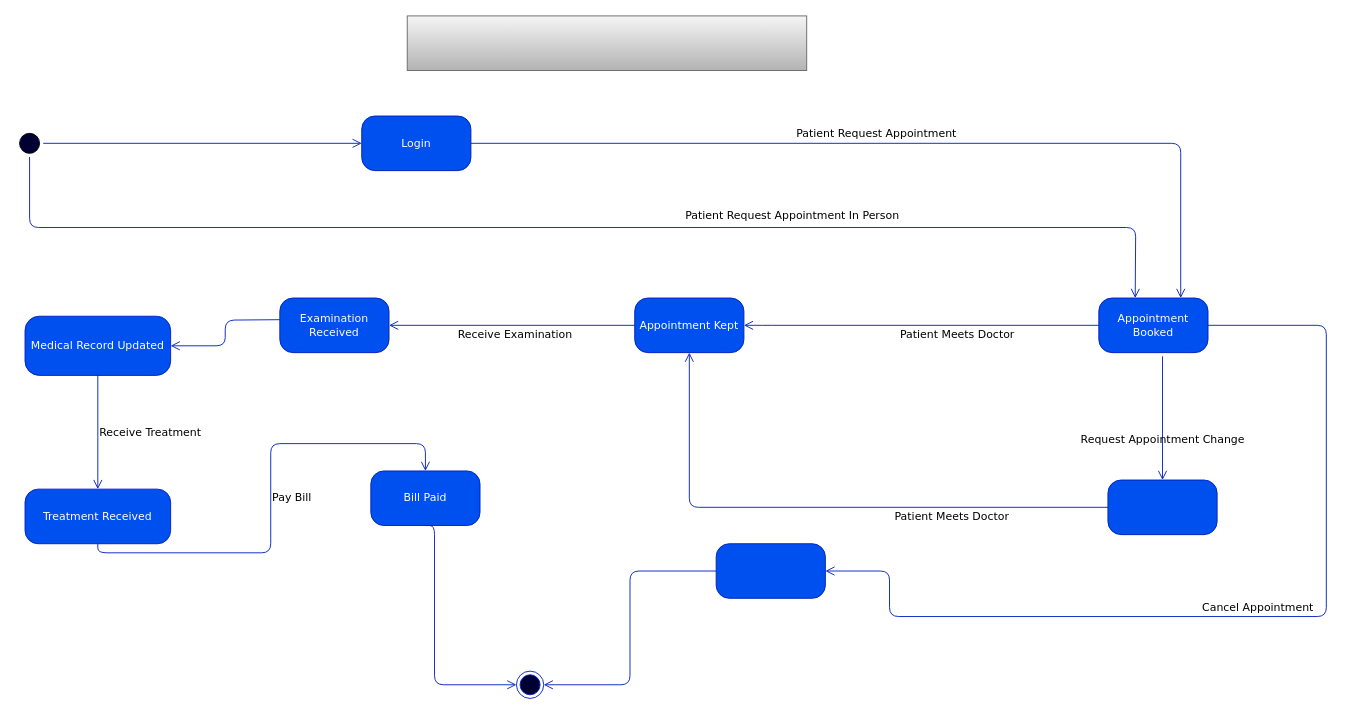
Some shapes in this 1351 by 714 pixel diagram are drawn without their labels. The shapes that lost their labels are listed below. From the top down, each one's centre as x and y in pixels, then its label:
At [606,43]: "State Diagram".
At [1162,507]: "Changed Appointment".
At [770,570]: "Canceled Appointment".
